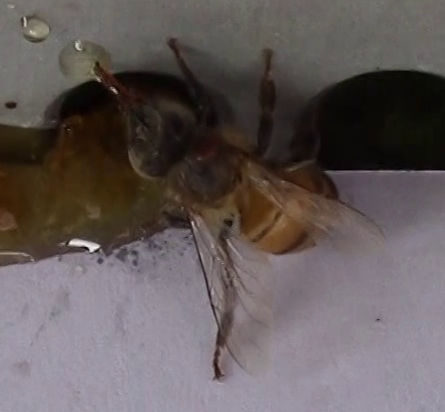Varroa destructor: (191, 132, 224, 161)
